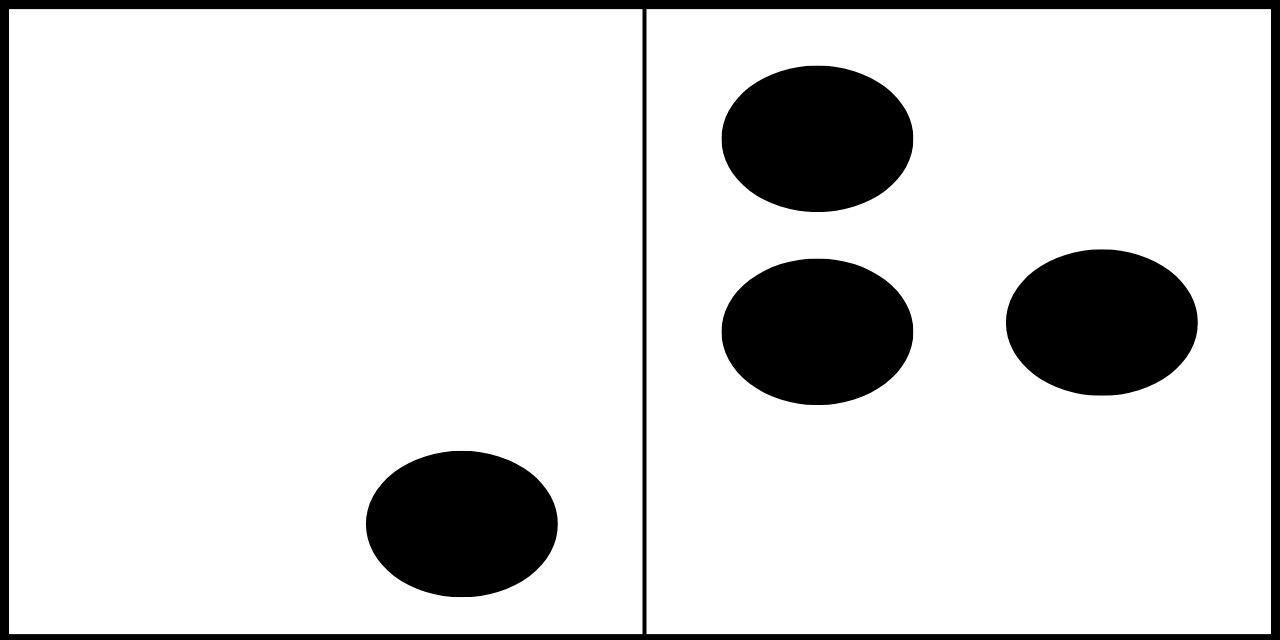H: (720, 62, 1199, 586)
capital: (136, 65, 560, 598)
